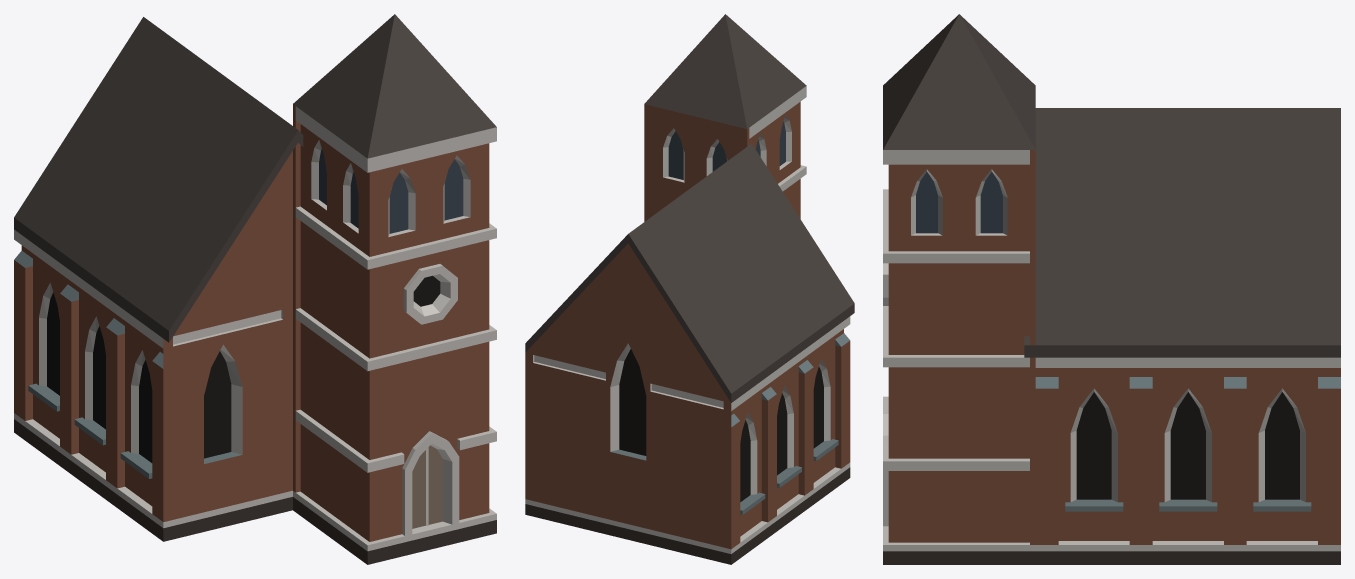
The model's file is brick-church-6cf1af.glb.
3 views of the same model, side by side, from view 1: azimuth 30°, elevation 25°; view 2: azimuth 150°, elevation 25°; view 3: azimuth 270°, elevation 25° (orthographic). The views are drawn at different scales.
Visible parts, largest first — view 1: church-shell; view 2: church-shell; view 3: church-shell.
Boxes of the visible parts, x1,y1,x2,y2 form: church-shell: (14, 14, 496, 564); church-shell: (525, 14, 854, 564); church-shell: (883, 14, 1340, 564).
Bounding box in the file's own units: 8 × 15 × 12.
